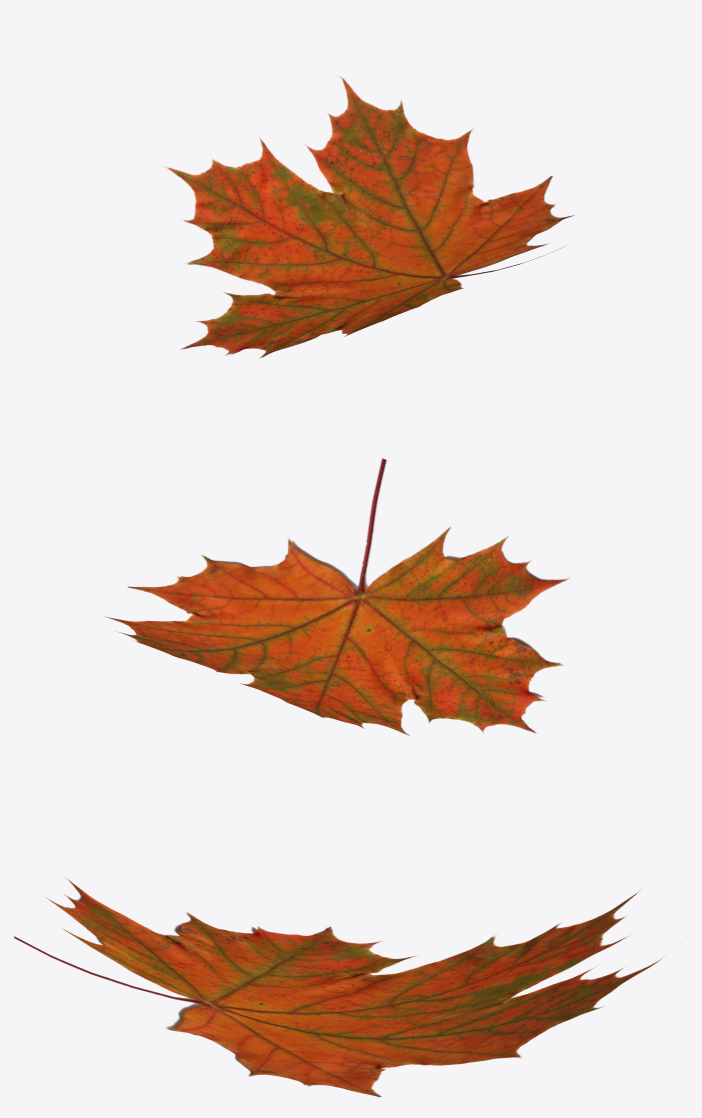
Rendered from leaf.glb.
The picture shows the model from 3 angles, top to bottom: view 1: azimuth 30°, elevation 25°; view 2: azimuth 150°, elevation 25°; view 3: azimuth 270°, elevation 25°; orthographic projection. The views are drawn at different scales.
Parts seen in each view (by area): view 1: Object_5.073; view 2: Object_5.073; view 3: Object_5.073.
Part boxes in pixels (bbox=[...]): Object_5.073: bbox=[162, 64, 574, 358]; Object_5.073: bbox=[102, 458, 569, 736]; Object_5.073: bbox=[14, 877, 663, 1097].
Bounding box in the file's own units: 1 × 0.3238 × 0.9852.
Materials: 1 (1 with a texture image).
